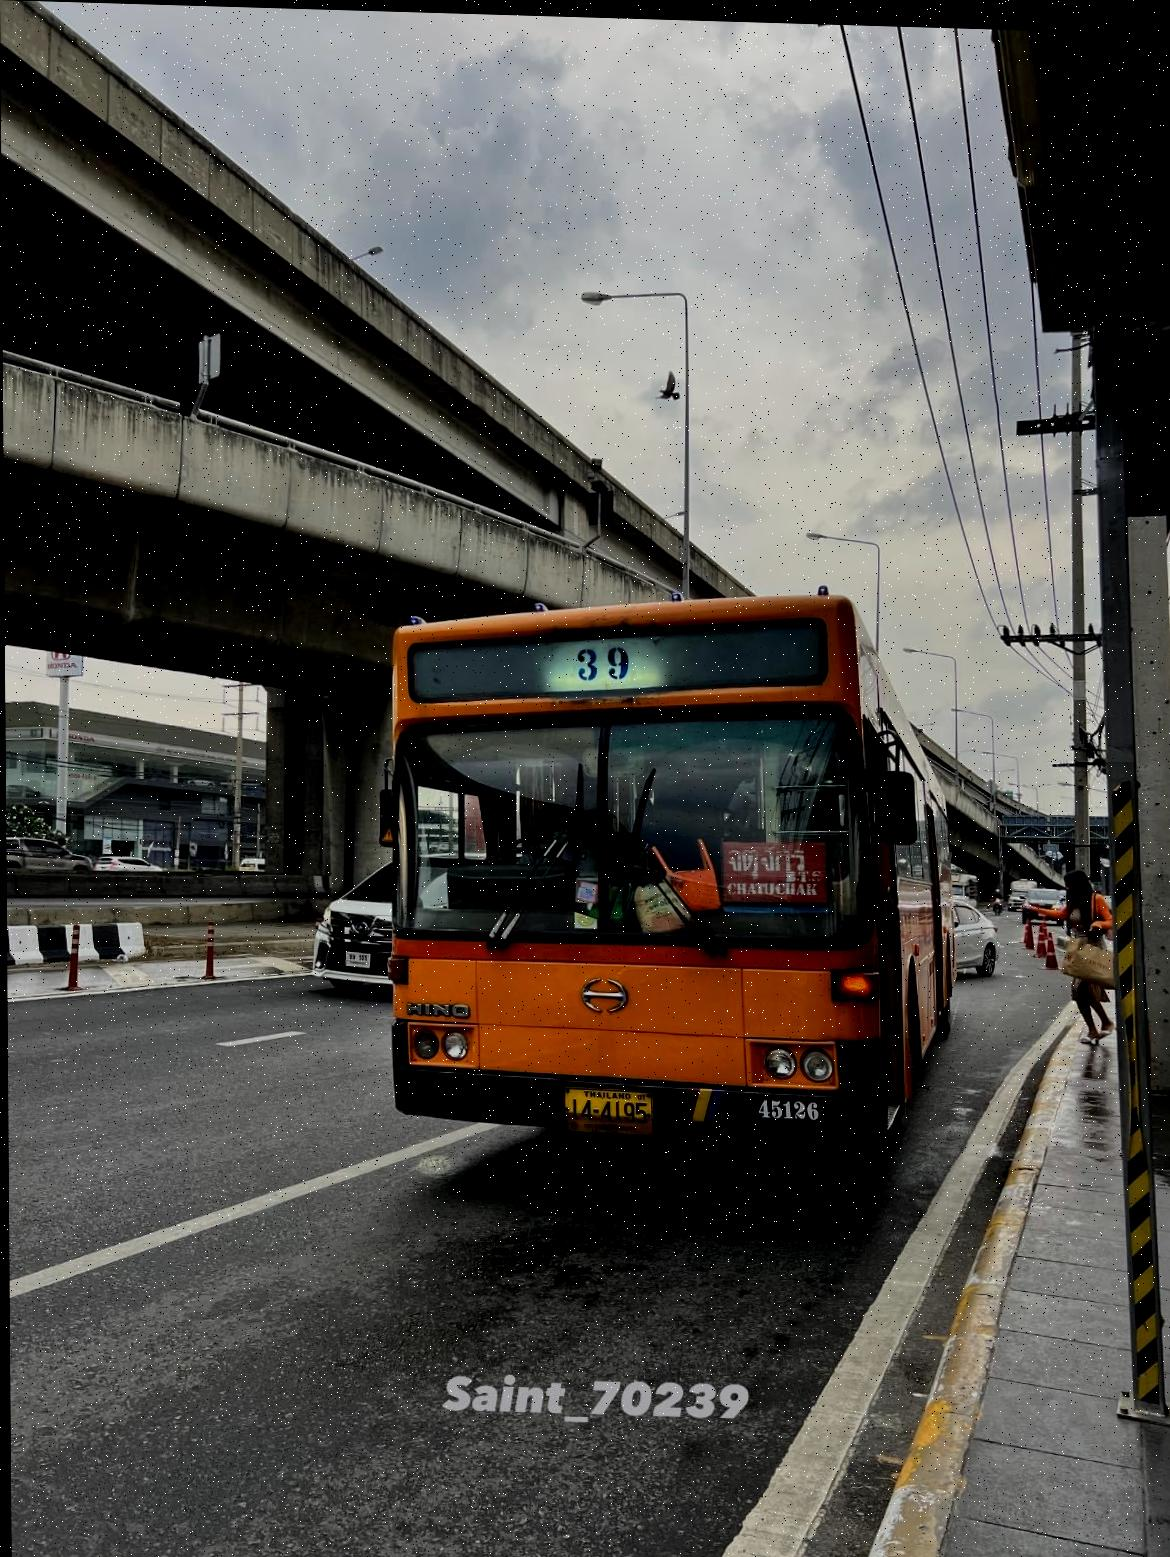BMTA-bus: (386, 591, 952, 1160)
Bus Line Number: (563, 634, 642, 683)
Bus Side Number: (746, 1090, 827, 1123)
Destination Sign: (720, 836, 830, 902)
